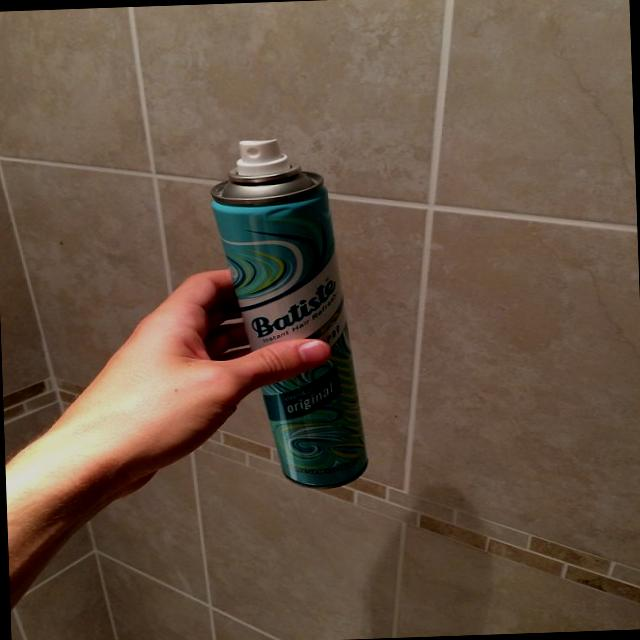Trash: (210, 136, 372, 492)
